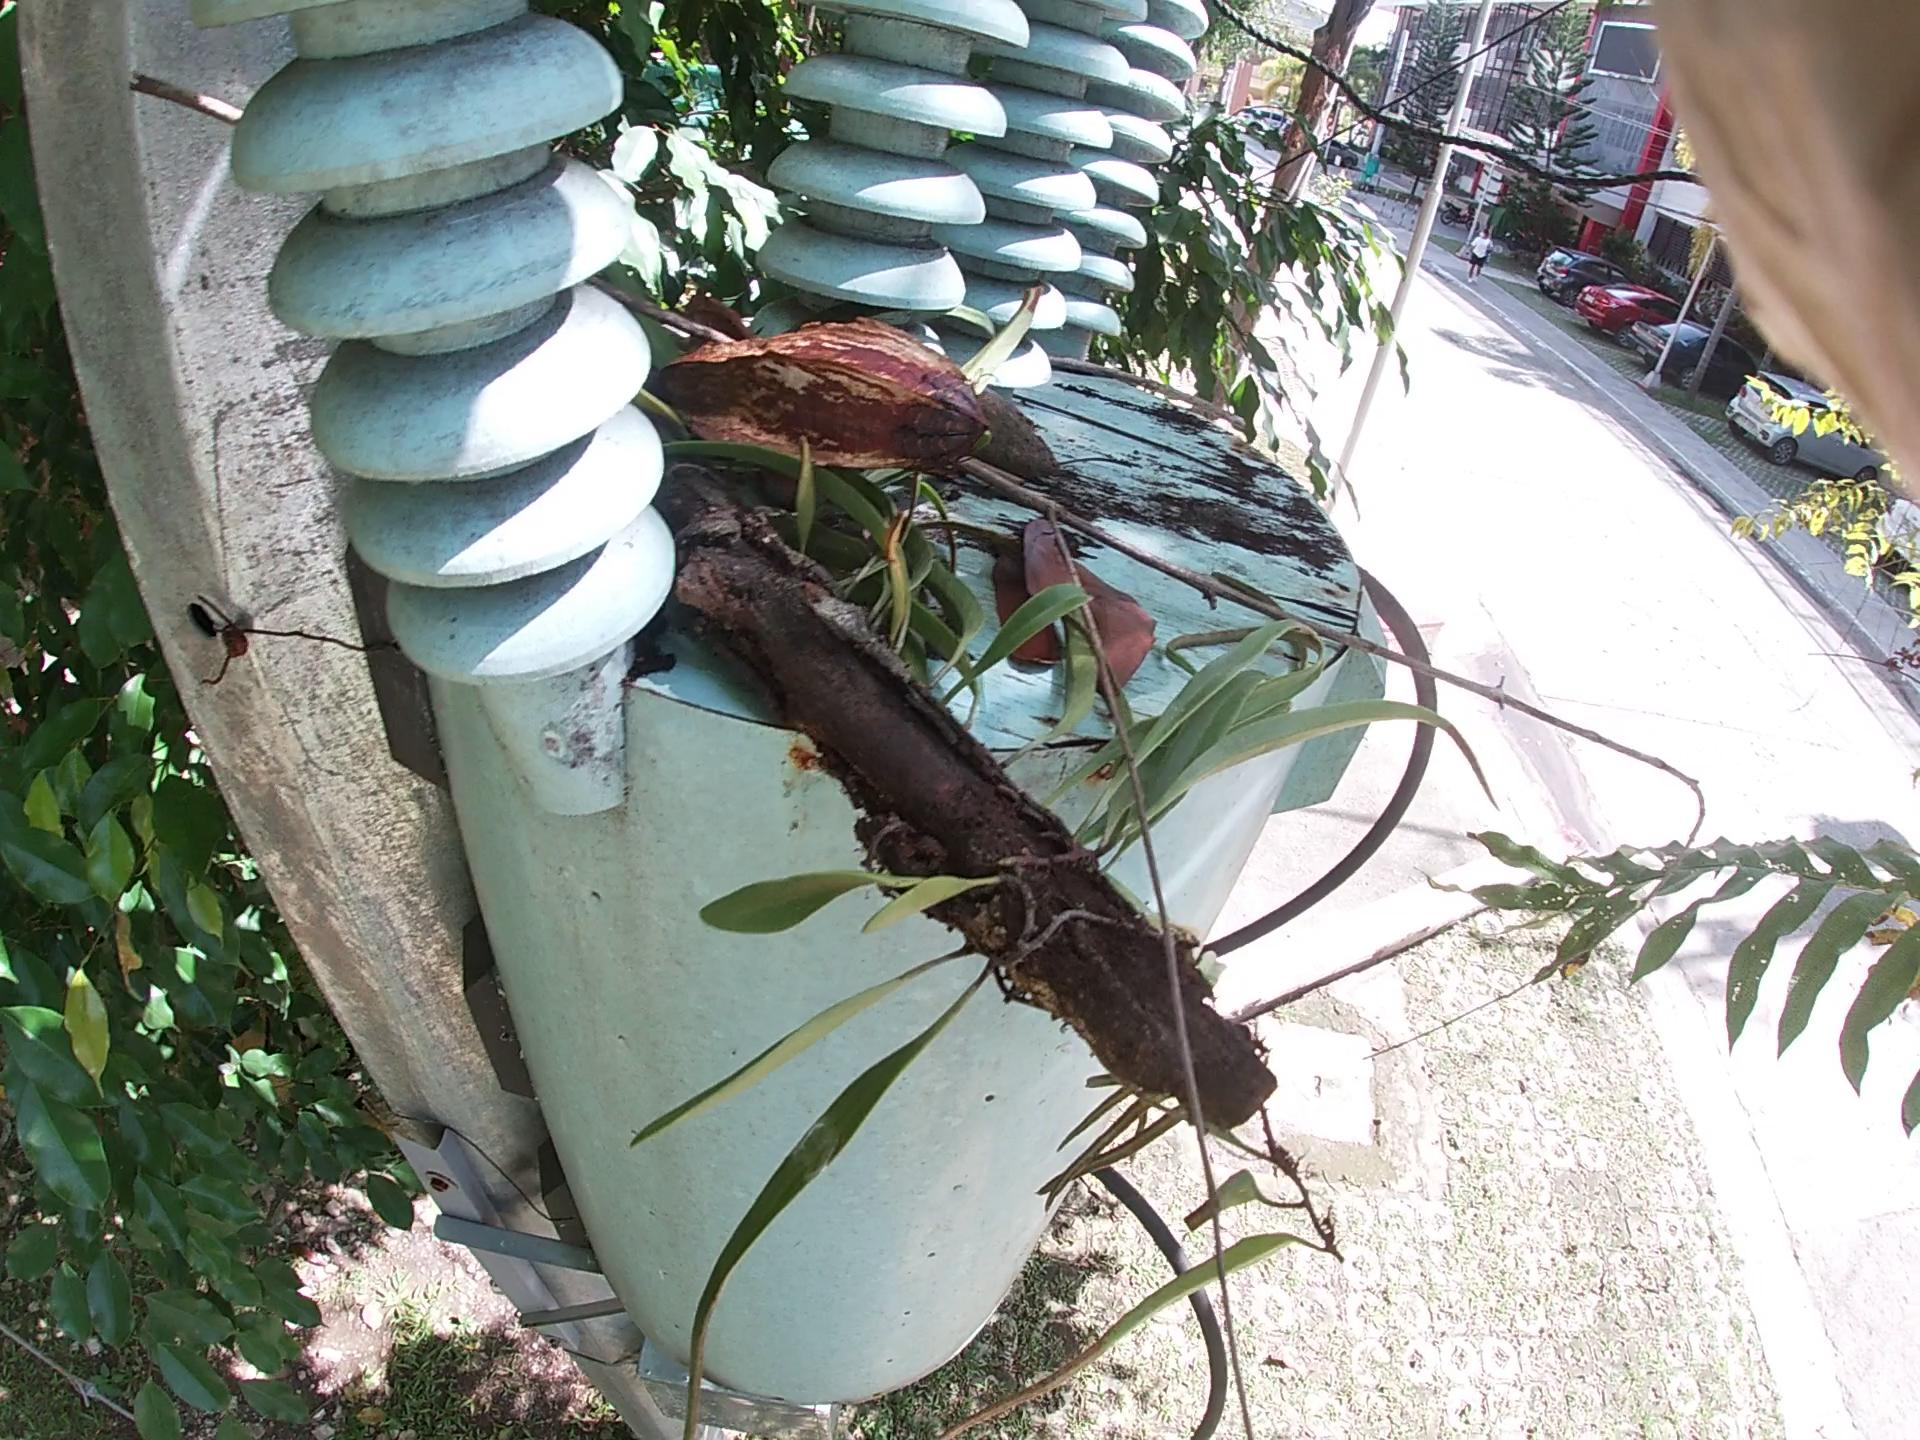branch with leaves: (612, 390, 1314, 1313)
leaf: (948, 501, 1157, 697)
mahogany fruit: (594, 286, 1101, 529), (906, 342, 1120, 542)
tree branch: (665, 228, 1748, 843), (954, 290, 1339, 484)
